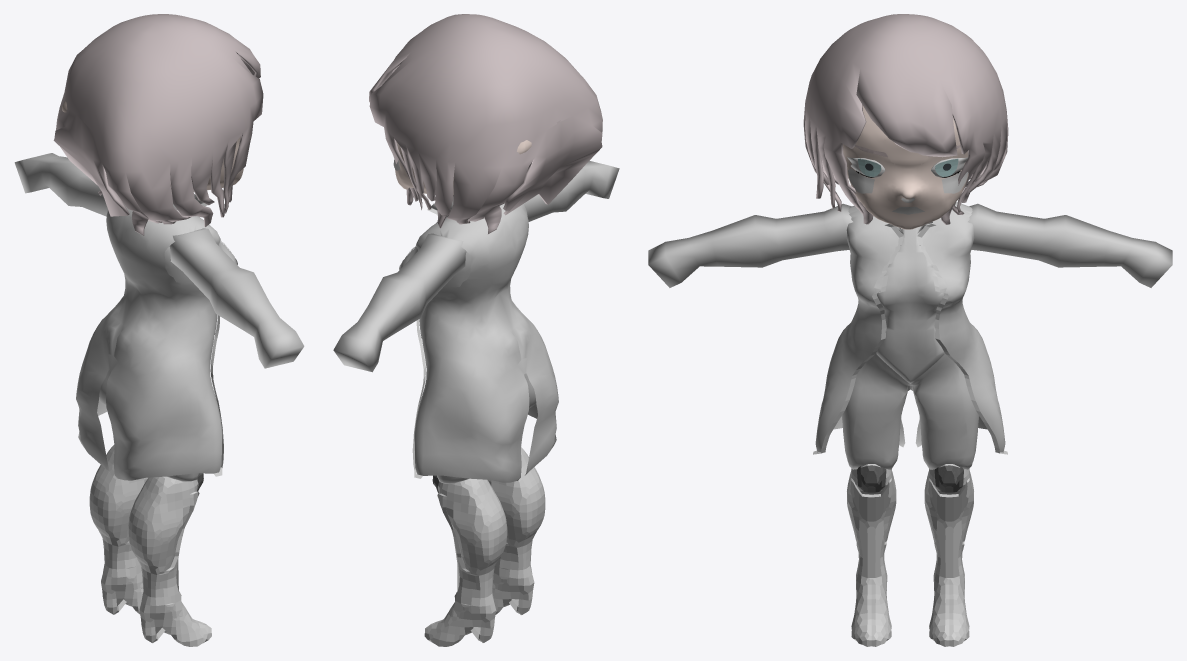
Rendered from MacrophageFinal3.fbx.
3 renders of one model, left to right at view 1: azimuth 30°, elevation 25°; view 2: azimuth 150°, elevation 25°; view 3: azimuth 270°, elevation 25°, orthographic.
Visible parts, largest first — view 1: Sphere.003; view 2: Sphere.003; view 3: Sphere.003.
Boxes of the visible parts, box(x1,y1,x2,y2) form: Sphere.003: box(14, 14, 304, 646); Sphere.003: box(333, 14, 619, 646); Sphere.003: box(648, 14, 1172, 646).
Size of the model in its own units: 202 by 641 by 496.
